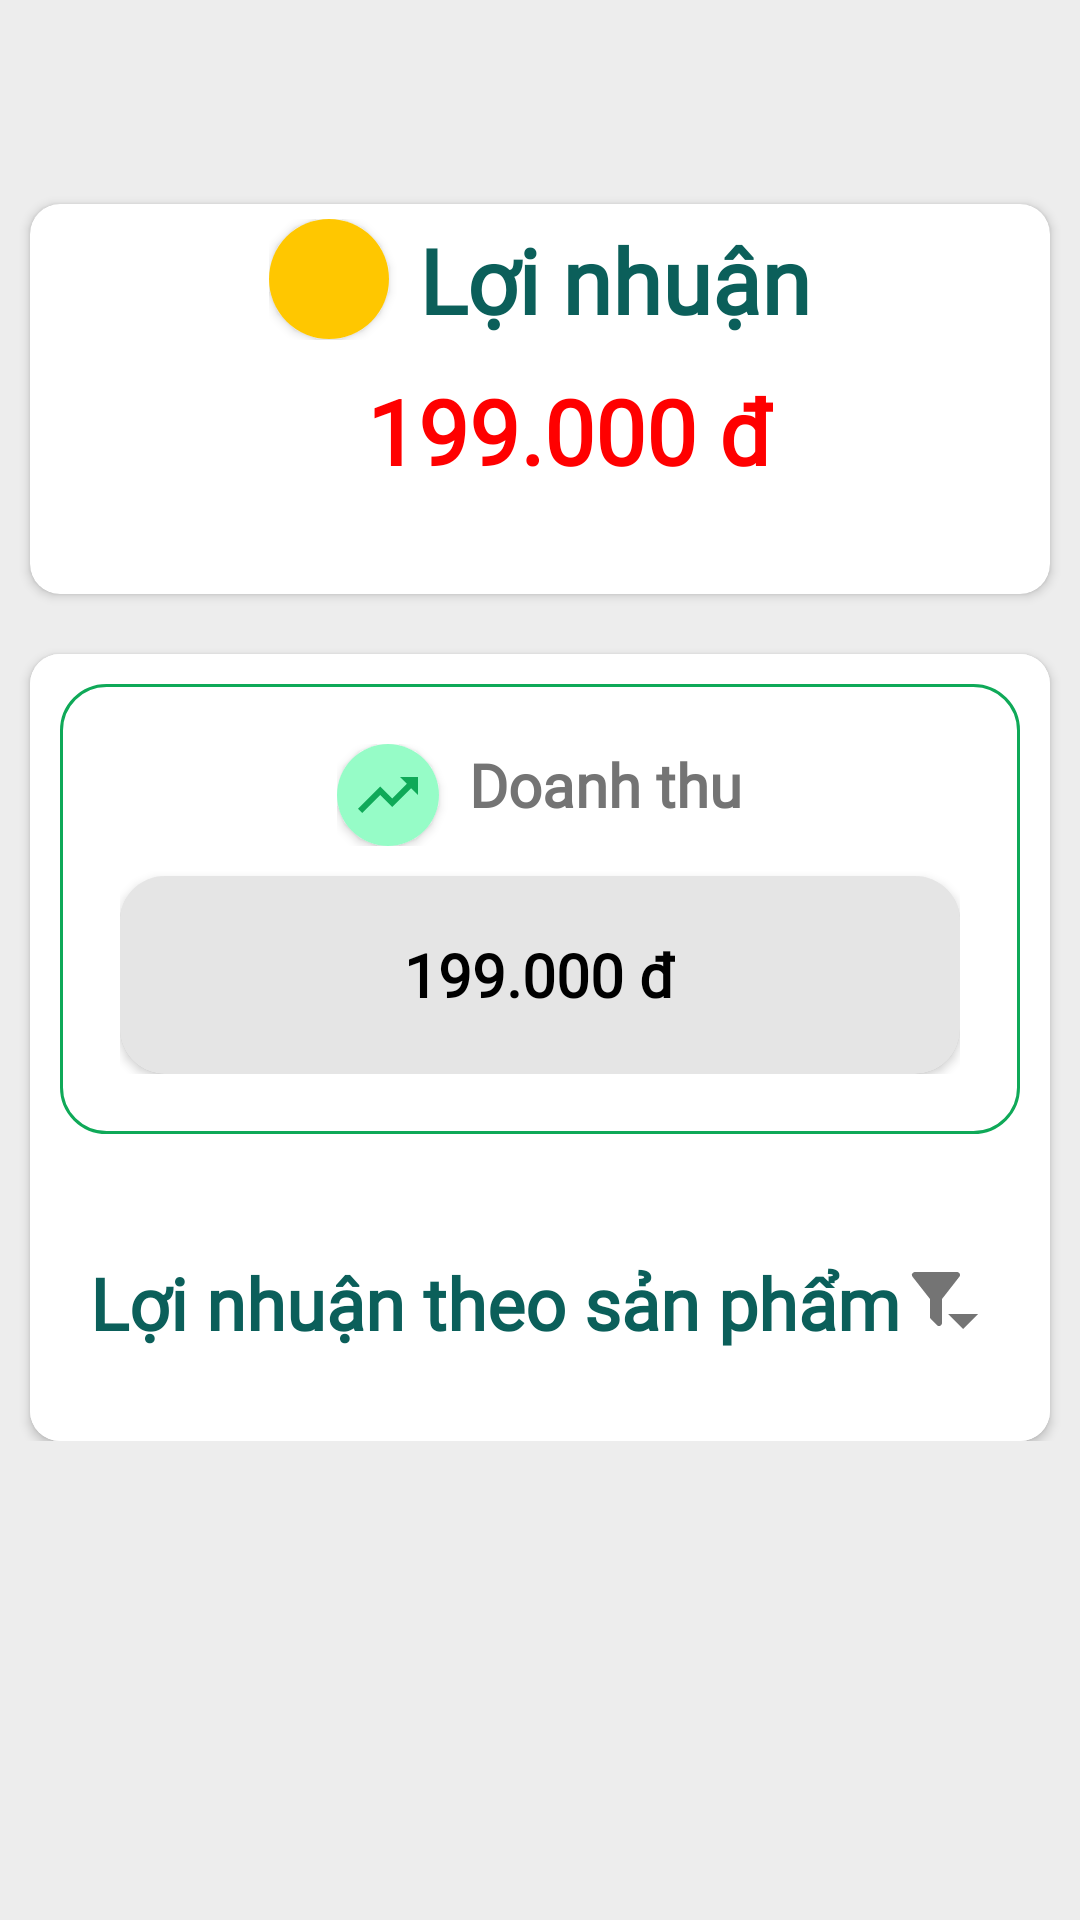

Icons on this 1080×1920 Android screen, each with its box as (x1, y1, x2, y2):
filter menu: (912, 1272, 978, 1329)
trending up: (358, 777, 418, 813)
